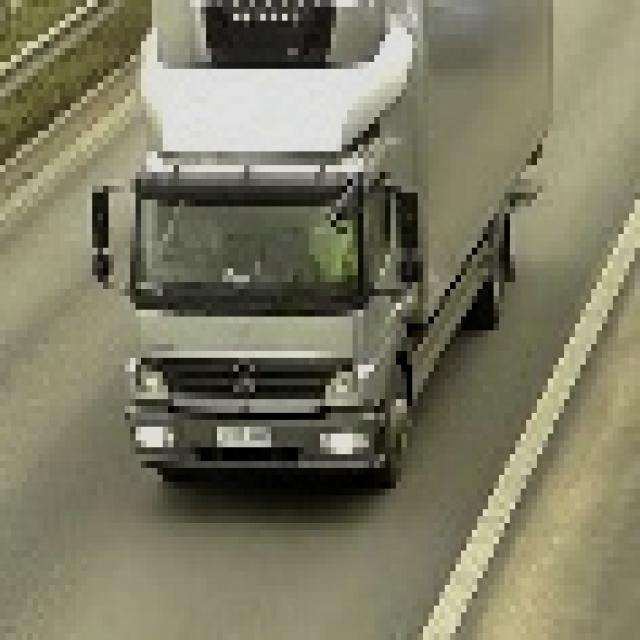truck: (88, 1, 549, 490)
